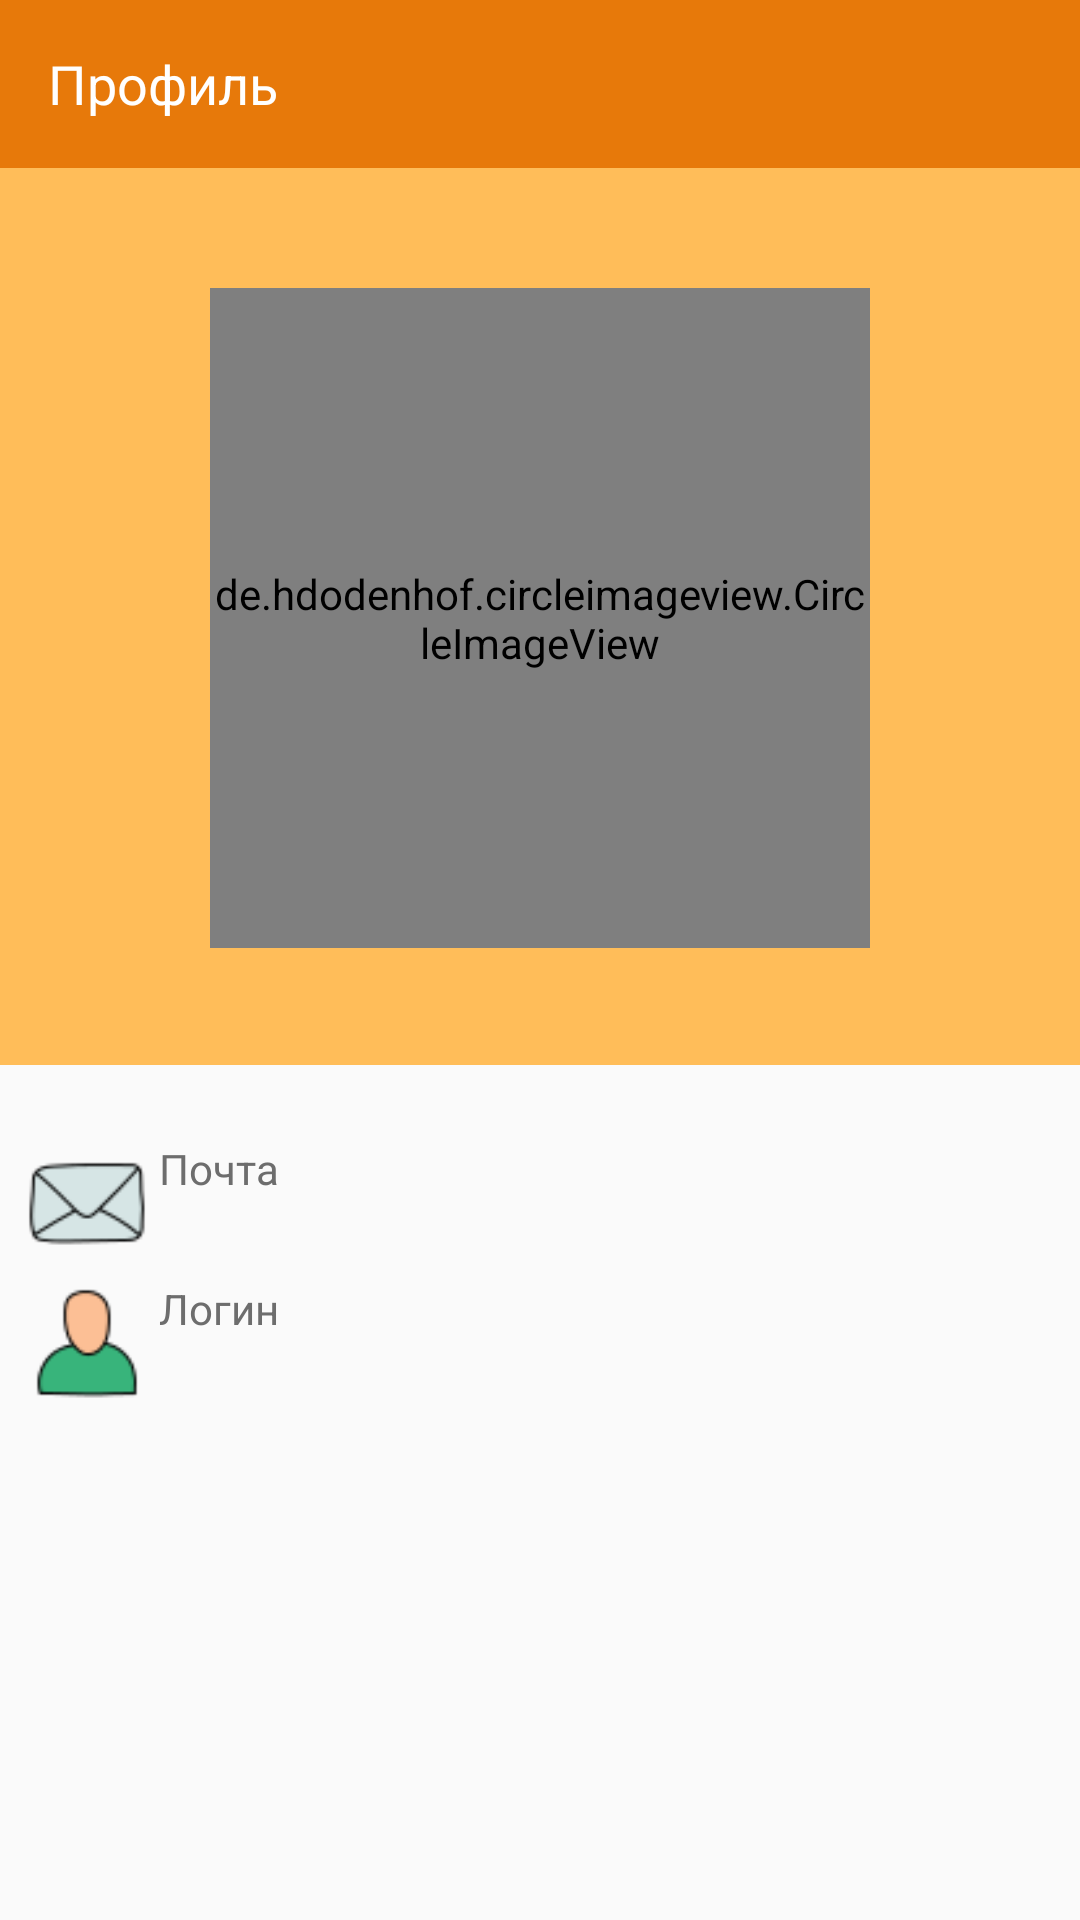

Named icons in this screenshot (1080x1920) and their centers, (x=x, y=y):
customer: (x=87, y=1343)
post: (x=87, y=1203)
